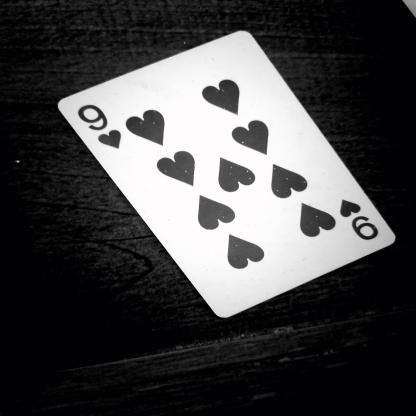9H: (73, 92, 125, 158), (332, 198, 388, 246)
